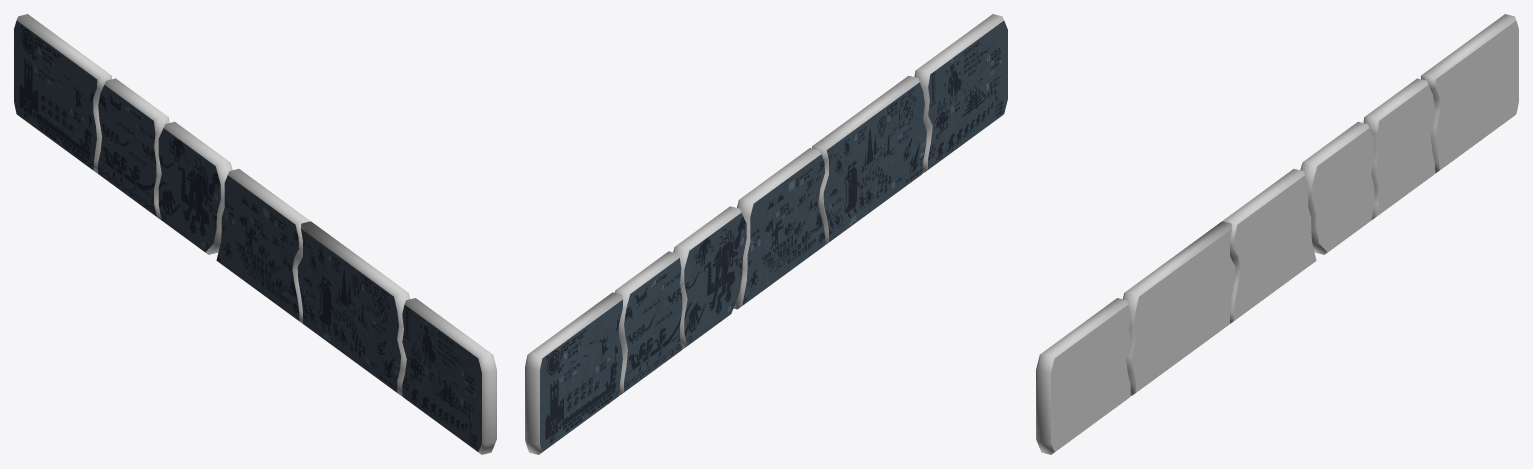
Rendered from Sunken Tomb Mural.fbx.
The picture shows the model from 3 angles, left to right: view 1: azimuth 30°, elevation 25°; view 2: azimuth 150°, elevation 25°; view 3: azimuth 330°, elevation 25°; orthographic projection.
Visible parts, largest first — view 1: Mural 5, Mural 6, Mural 1, Mural 4, Mural 3, Mural 2; view 2: Mural 5, Mural 1, Mural 6, Mural 4, Mural 3, Mural 2; view 3: Mural 5, Mural 6, Mural 1, Mural 4, Mural 3, Mural 2.
Boxes of the visible parts, left/top/right/bottom form: Mural 5: left=297, top=221, right=409, bottom=395; Mural 6: left=402, top=298, right=496, bottom=454; Mural 1: left=14, top=14, right=111, bottom=173; Mural 4: left=216, top=169, right=309, bottom=323; Mural 3: left=158, top=121, right=232, bottom=254; Mural 2: left=98, top=78, right=169, bottom=220; Mural 5: left=812, top=75, right=926, bottom=244; Mural 1: left=525, top=292, right=622, bottom=454; Mural 6: left=914, top=14, right=1007, bottom=172; Mural 4: left=733, top=148, right=824, bottom=309; Mural 3: left=673, top=206, right=746, bottom=348; Mural 2: left=614, top=251, right=682, bottom=395; Mural 5: left=1123, top=221, right=1235, bottom=395; Mural 6: left=1036, top=298, right=1130, bottom=454; Mural 1: left=1421, top=14, right=1518, bottom=173; Mural 4: left=1223, top=169, right=1316, bottom=323; Mural 3: left=1300, top=121, right=1374, bottom=254; Mural 2: left=1363, top=78, right=1434, bottom=220.
Size of the model in its own units: 35.38 by 225 by 1939.
